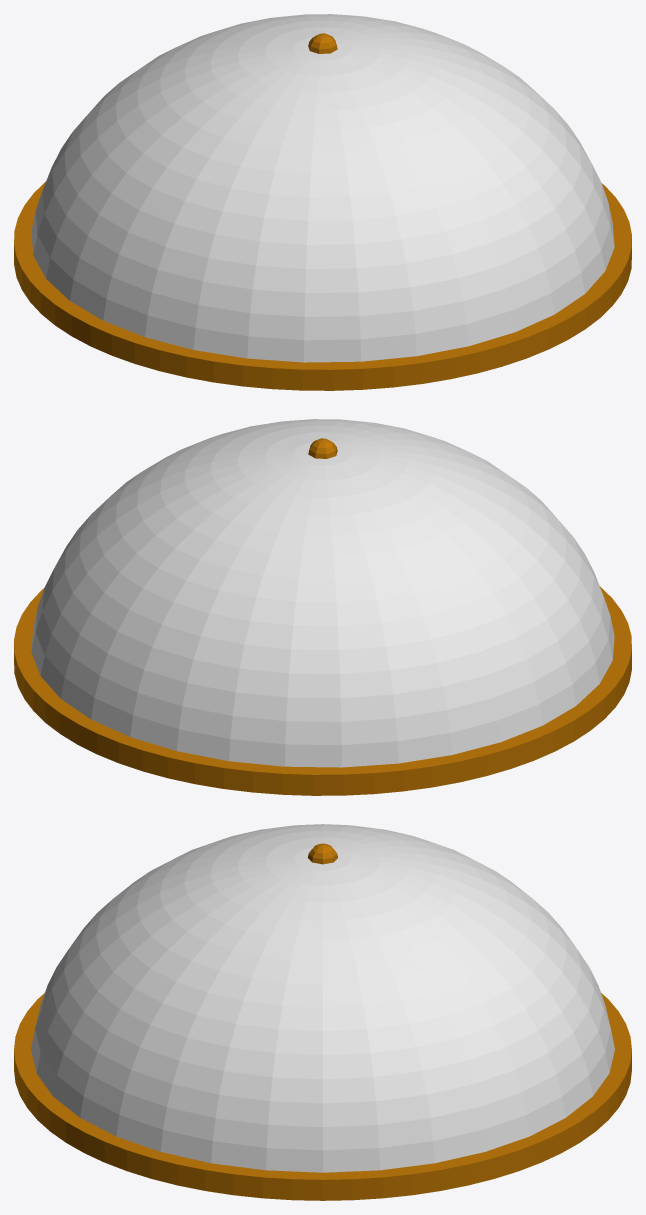
Rendered from Ceiling_Light.fbx.
3 views of the same model, one above another, from view 1: azimuth 30°, elevation 25°; view 2: azimuth 150°, elevation 25°; view 3: azimuth 270°, elevation 25° (orthographic).
Visible parts, largest first — view 1: Sphere, Cylinder; view 2: Sphere, Cylinder; view 3: Sphere, Cylinder.
Boxes of the visible parts, <box> form: Sphere: <box>31,14,614,362</box>; Cylinder: <box>14,33,631,390</box>; Sphere: <box>31,419,614,767</box>; Cylinder: <box>14,438,631,795</box>; Sphere: <box>31,824,614,1172</box>; Cylinder: <box>14,843,631,1200</box>.
Bounding box in the file's own units: 40 × 40 × 16.1.
